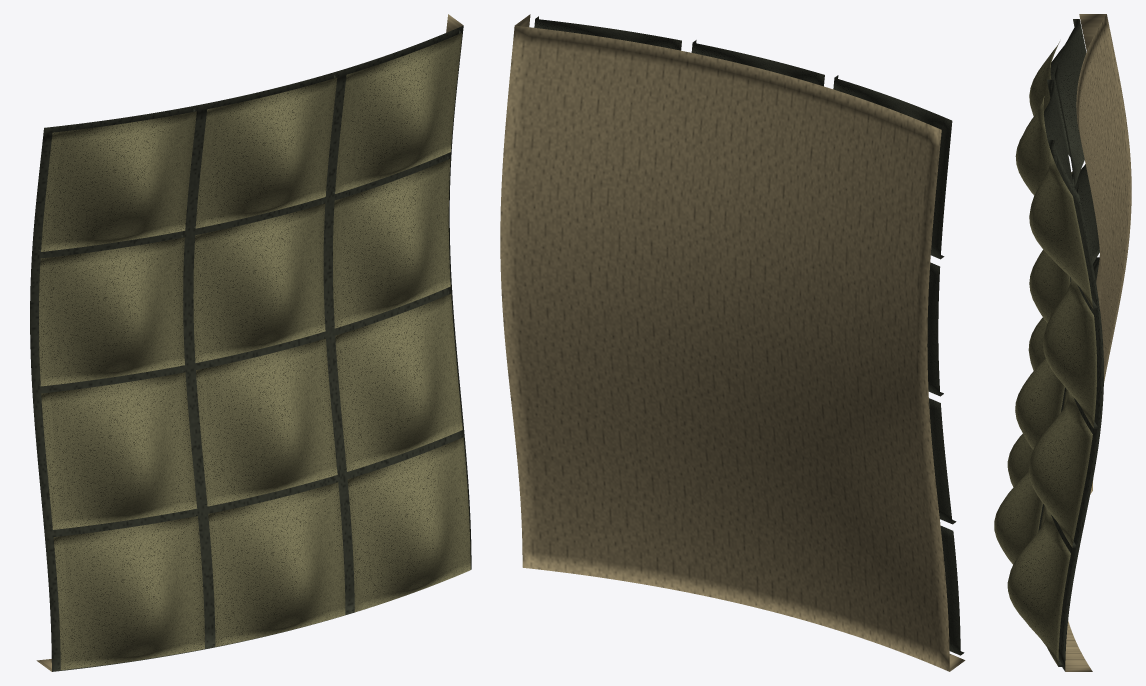
The model's file is crocodile_scute.glb.
3 views of the same model, side by side, from view 1: azimuth 30°, elevation 25°; view 2: azimuth 150°, elevation 25°; view 3: azimuth 270°, elevation 25° (orthographic). The views are drawn at different scales.
Parts seen in each view (by area): view 1: Olive pitted crocodile osteoderm, Dark scute margins; view 2: Fibrous severed osteoderm underside, Dark scute margins; view 3: Olive pitted crocodile osteoderm, Fibrous severed osteoderm underside, Dark scute margins.
Part boxes in pixels (<box>): Olive pitted crocodile osteoderm: <box>39,33,470,670</box>; Dark scute margins: <box>30,25,471,671</box>; Fibrous severed osteoderm underside: <box>500,14,965,671</box>; Dark scute margins: <box>534,16,964,655</box>; Olive pitted crocodile osteoderm: <box>994,41,1096,666</box>; Fibrous severed osteoderm underside: <box>1065,14,1131,671</box>; Dark scute margins: <box>1038,19,1103,671</box>.
Bounding box in the file's own units: 0.31 × 0.38 × 0.0994.
3 materials, 3 textured.
